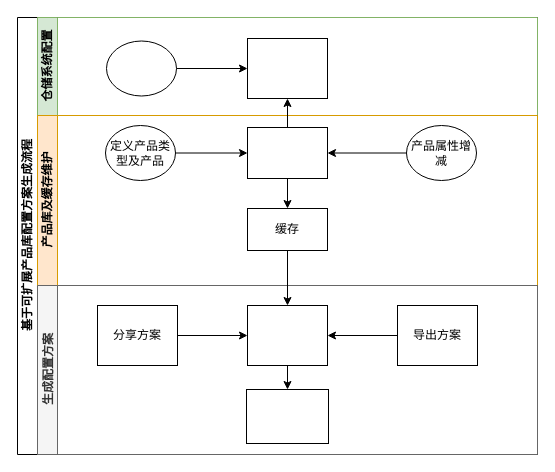
Image size: 555x472. Some labels were removed from this diagram. The shapes that lost their labels are listed below. From the top down, each one's centre as x and y in pixels, then its label:
point (141, 68): 具体产品维护
point (287, 68): 产品库存
point (287, 152): 产品库
point (287, 335): 选择有库存的产品生成配置方案
point (287, 416): 其他处理
